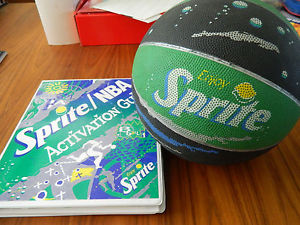sprite: (152, 66, 270, 130), (155, 68, 270, 130), (14, 103, 87, 155), (119, 160, 154, 193), (122, 160, 154, 193)
